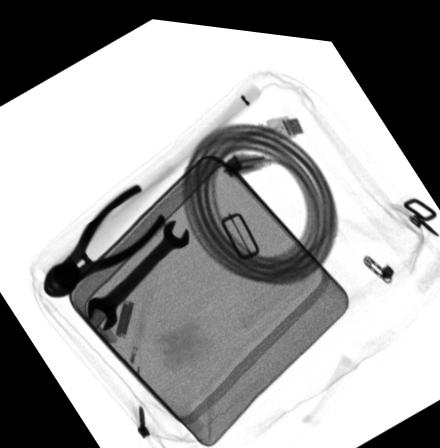Pliers: (39, 177, 164, 297)
Wrench: (85, 215, 188, 327)
